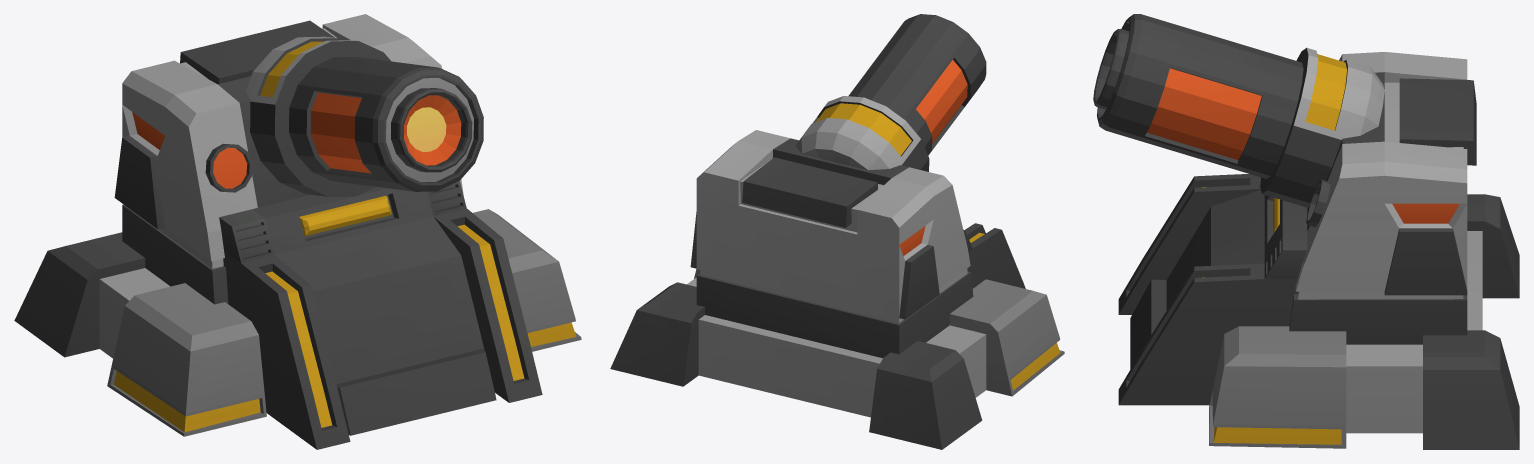
The model's file is Laser_Turret.obj.
3 renders of one model, left to right at view 1: azimuth 30°, elevation 25°; view 2: azimuth 150°, elevation 25°; view 3: azimuth 270°, elevation 25°, orthographic. The views are drawn at different scales.
Parts seen in each view (by area): view 1: Laser_Turret; view 2: Laser_Turret; view 3: Laser_Turret.
Part boxes in pixels (bbox=[...]): Laser_Turret: bbox=[14, 14, 581, 449]; Laser_Turret: bbox=[610, 14, 1064, 449]; Laser_Turret: bbox=[1093, 14, 1519, 449].
Size of the model in its own units: 23.59 by 18.82 by 21.84.
